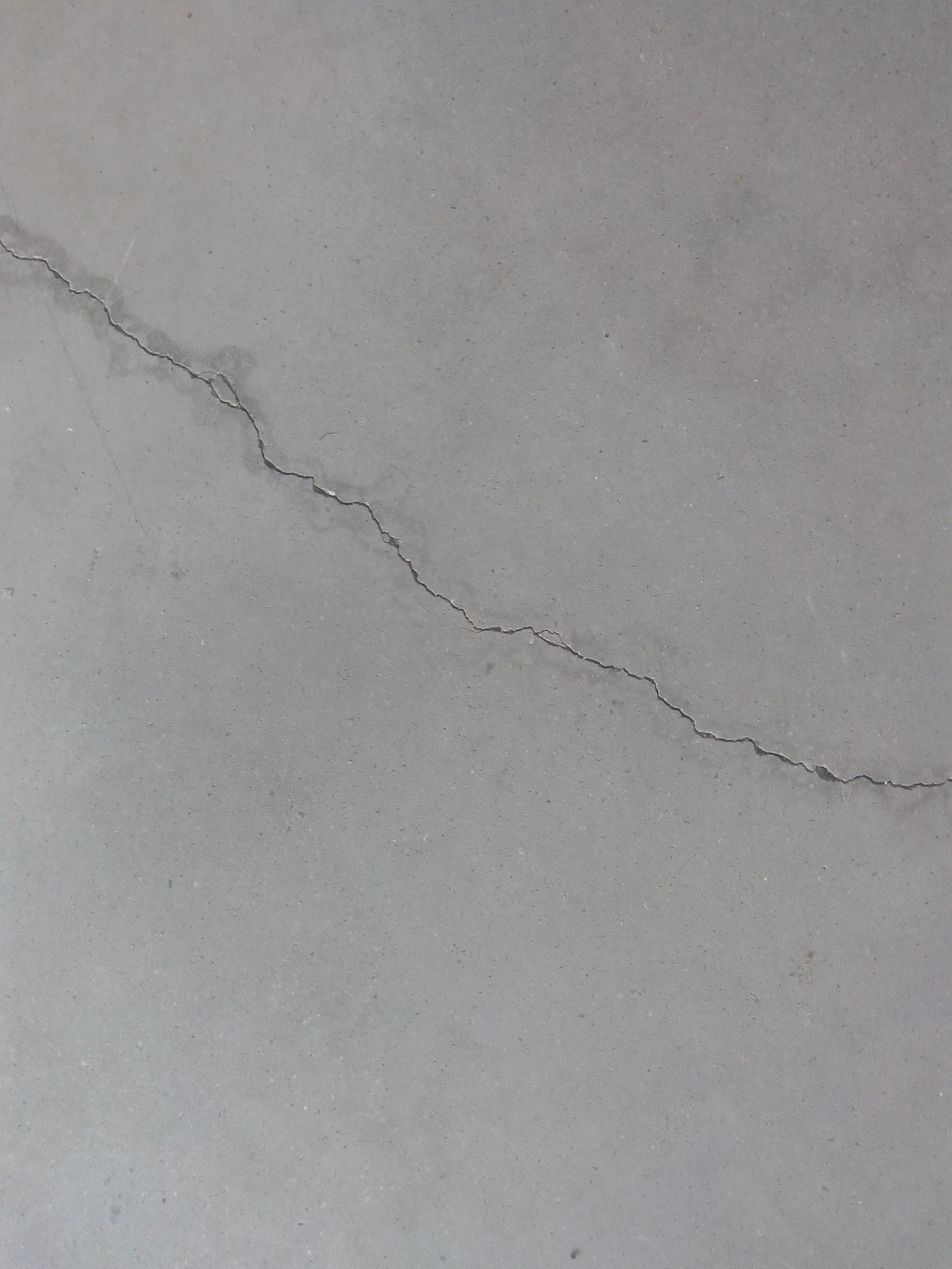Diagonal Crack: (2, 223, 948, 798), (0, 230, 952, 791)
